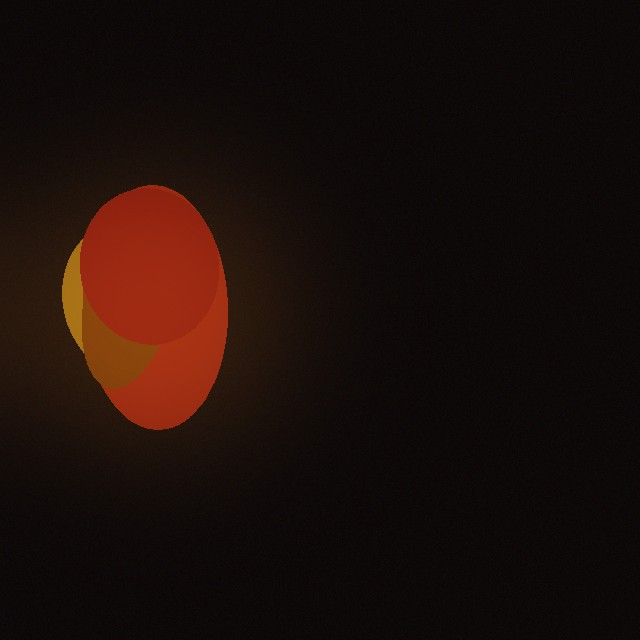fire: (62, 225, 240, 395)
